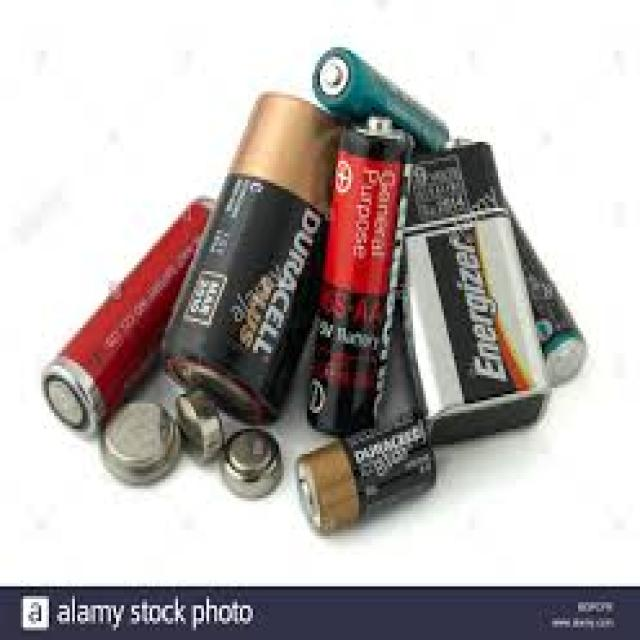battery: (44, 47, 583, 530)
